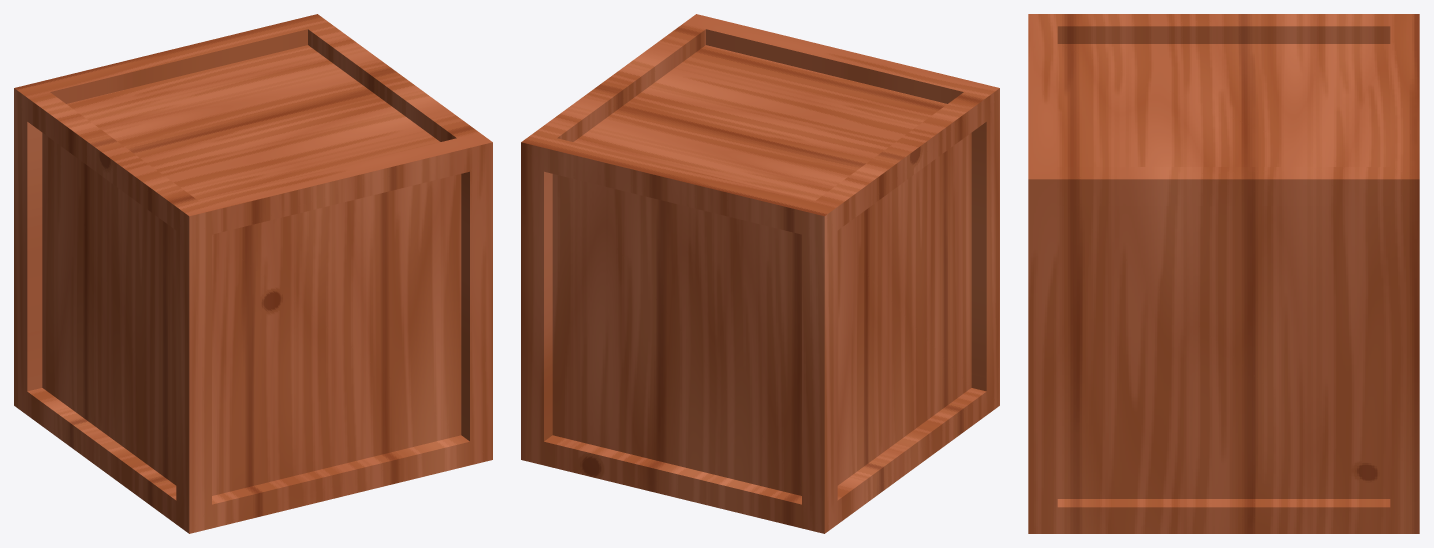
Rendered from crate1.glb.
3 renders of one model, left to right at view 1: azimuth 30°, elevation 25°; view 2: azimuth 150°, elevation 25°; view 3: azimuth 270°, elevation 25°, orthographic. The views are drawn at different scales.
Visible parts, largest first — view 1: Cube; view 2: Cube; view 3: Cube.
Part boxes in pixels (x1=…): Cube: x1=14, y1=14, x2=492, y2=533; Cube: x1=521, y1=14, x2=999, y2=533; Cube: x1=1028, y1=14, x2=1419, y2=533.
Bounding box in the file's own units: 0.7 × 0.7 × 0.7.
Materials: 1 (1 with a texture image).
